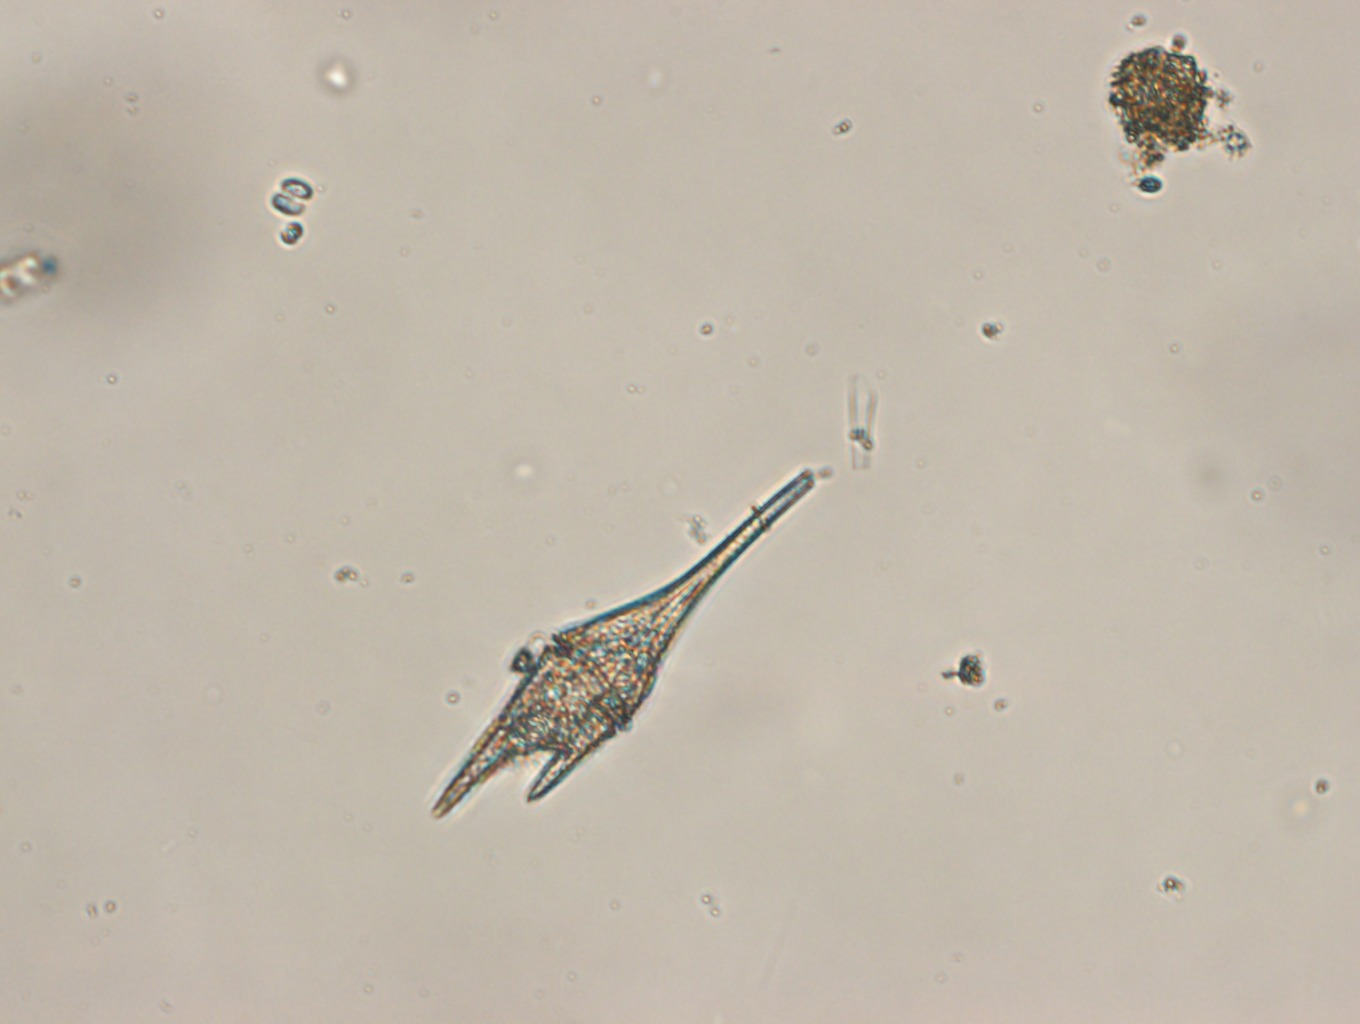ceratium furca: (429, 467, 819, 827)
